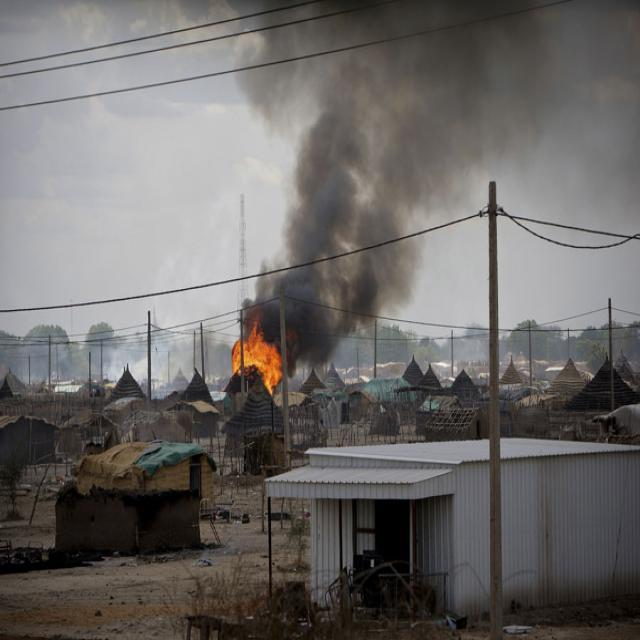Fire: (234, 334, 284, 393)
Smoke: (298, 12, 602, 182), (290, 200, 406, 322)
